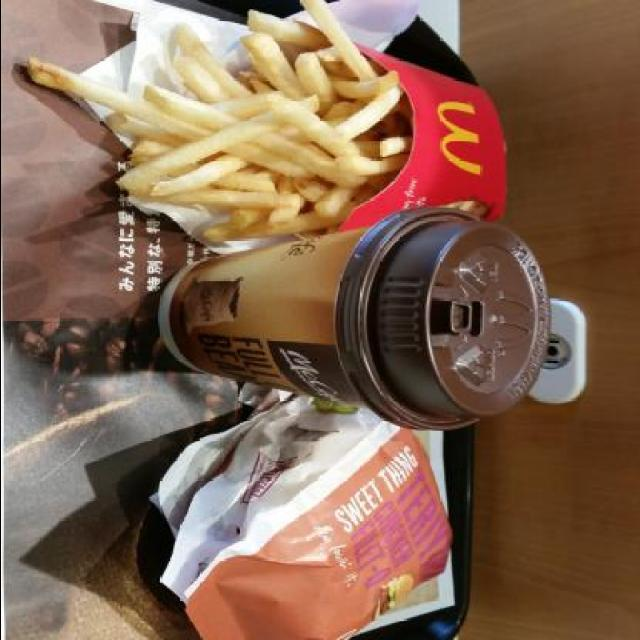French fries: (13, 0, 424, 251)
